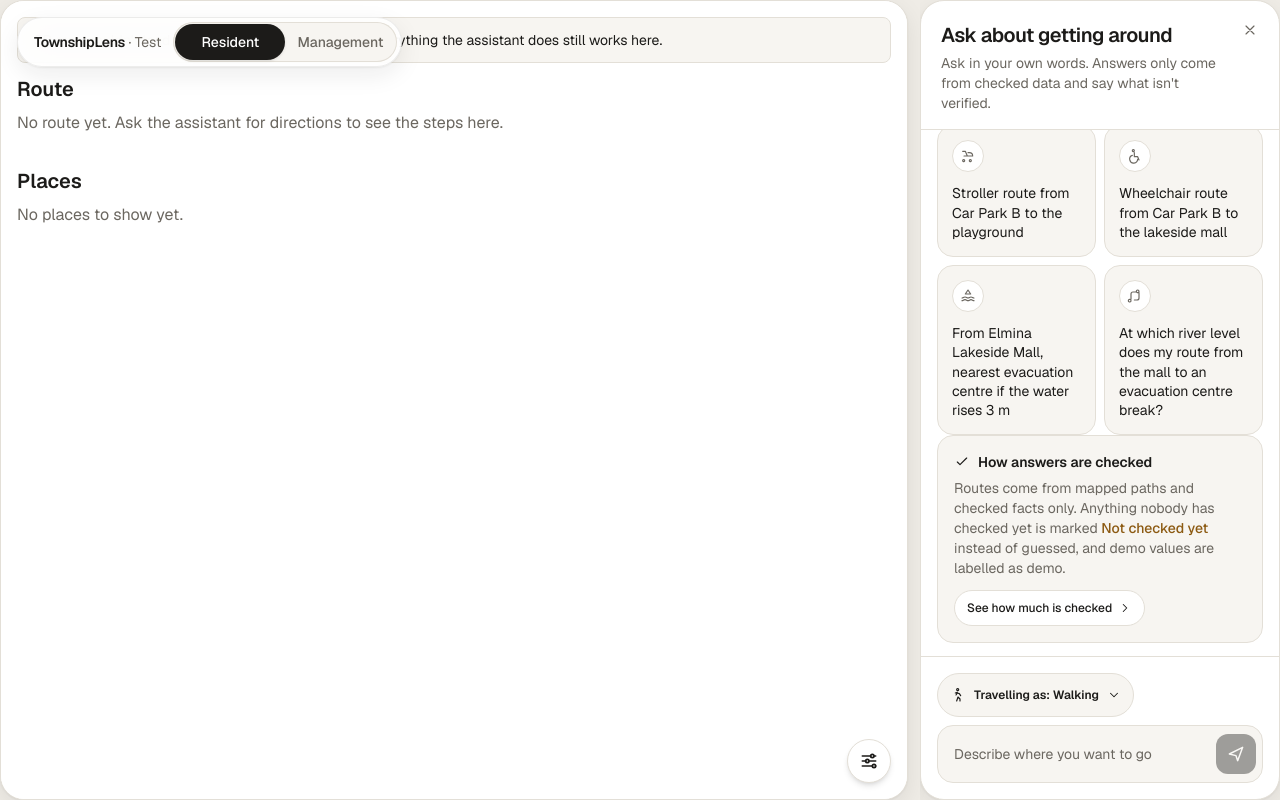
honesty and accessibility (day theme) › main screen at +3 m: not a forecast, no safety words, no depths, named controls
(page scrolled)
Click the button named "Map settings": click(869, 761) top-left (847, 739), bottom-right (891, 783)
(page scrolled)
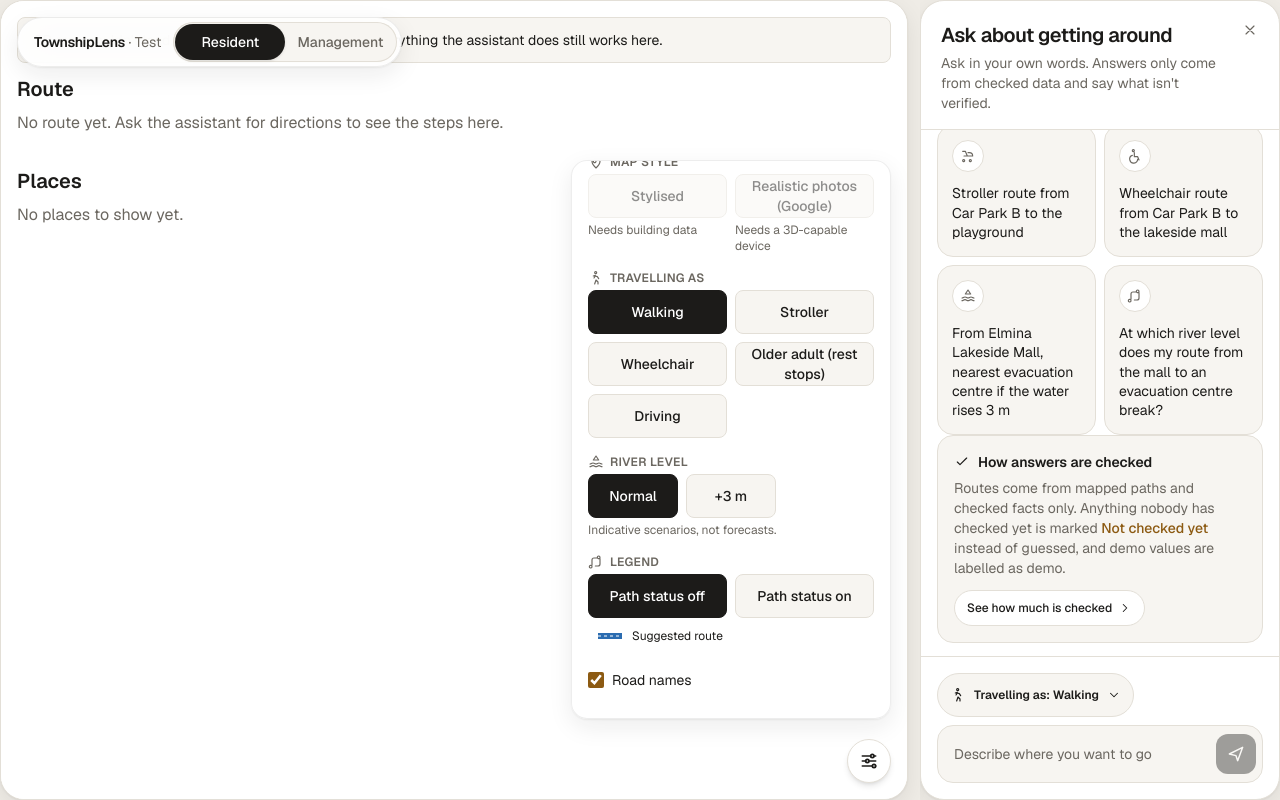
Click the radio button labelled "+3 m": click(731, 496) top-left (686, 474), bottom-right (776, 518)
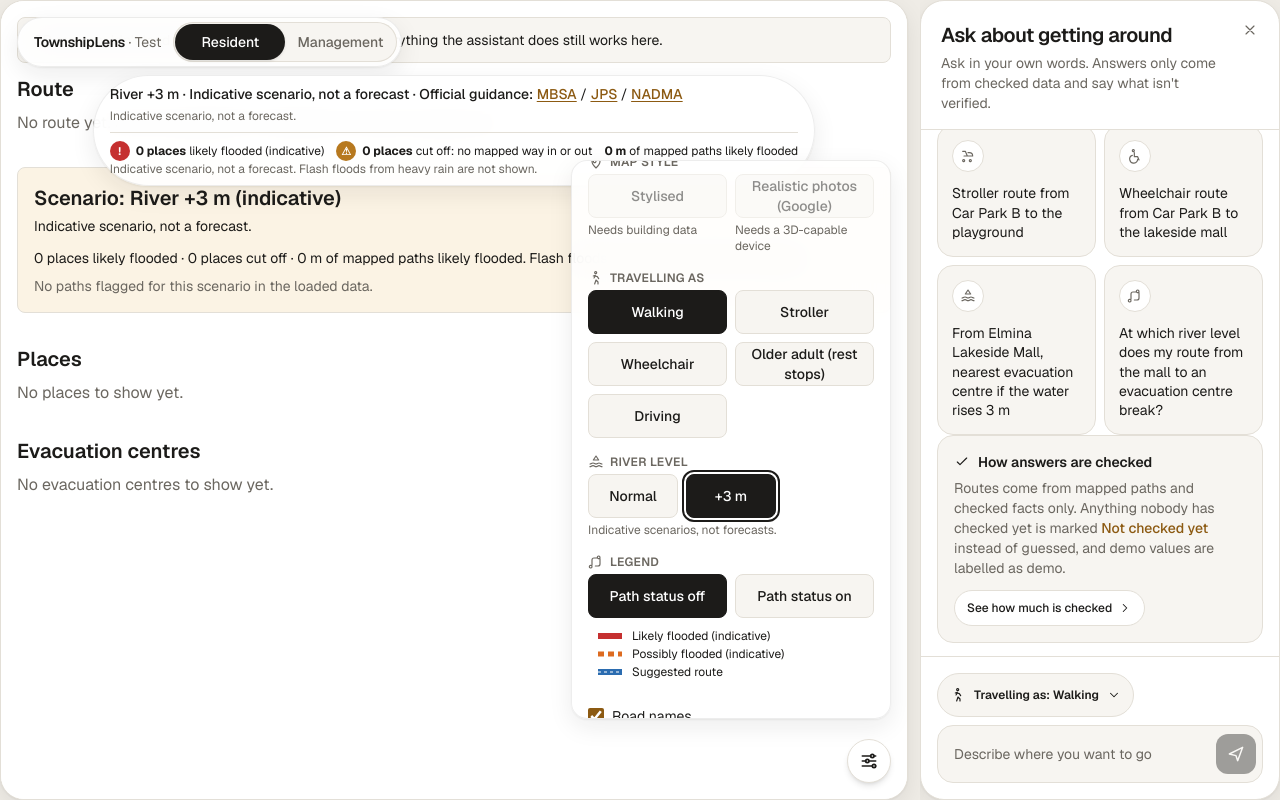
Expected: the element that starts with "River +3 m" shows "not a forecast", top-left (179, 85), bottom-right (533, 103)
